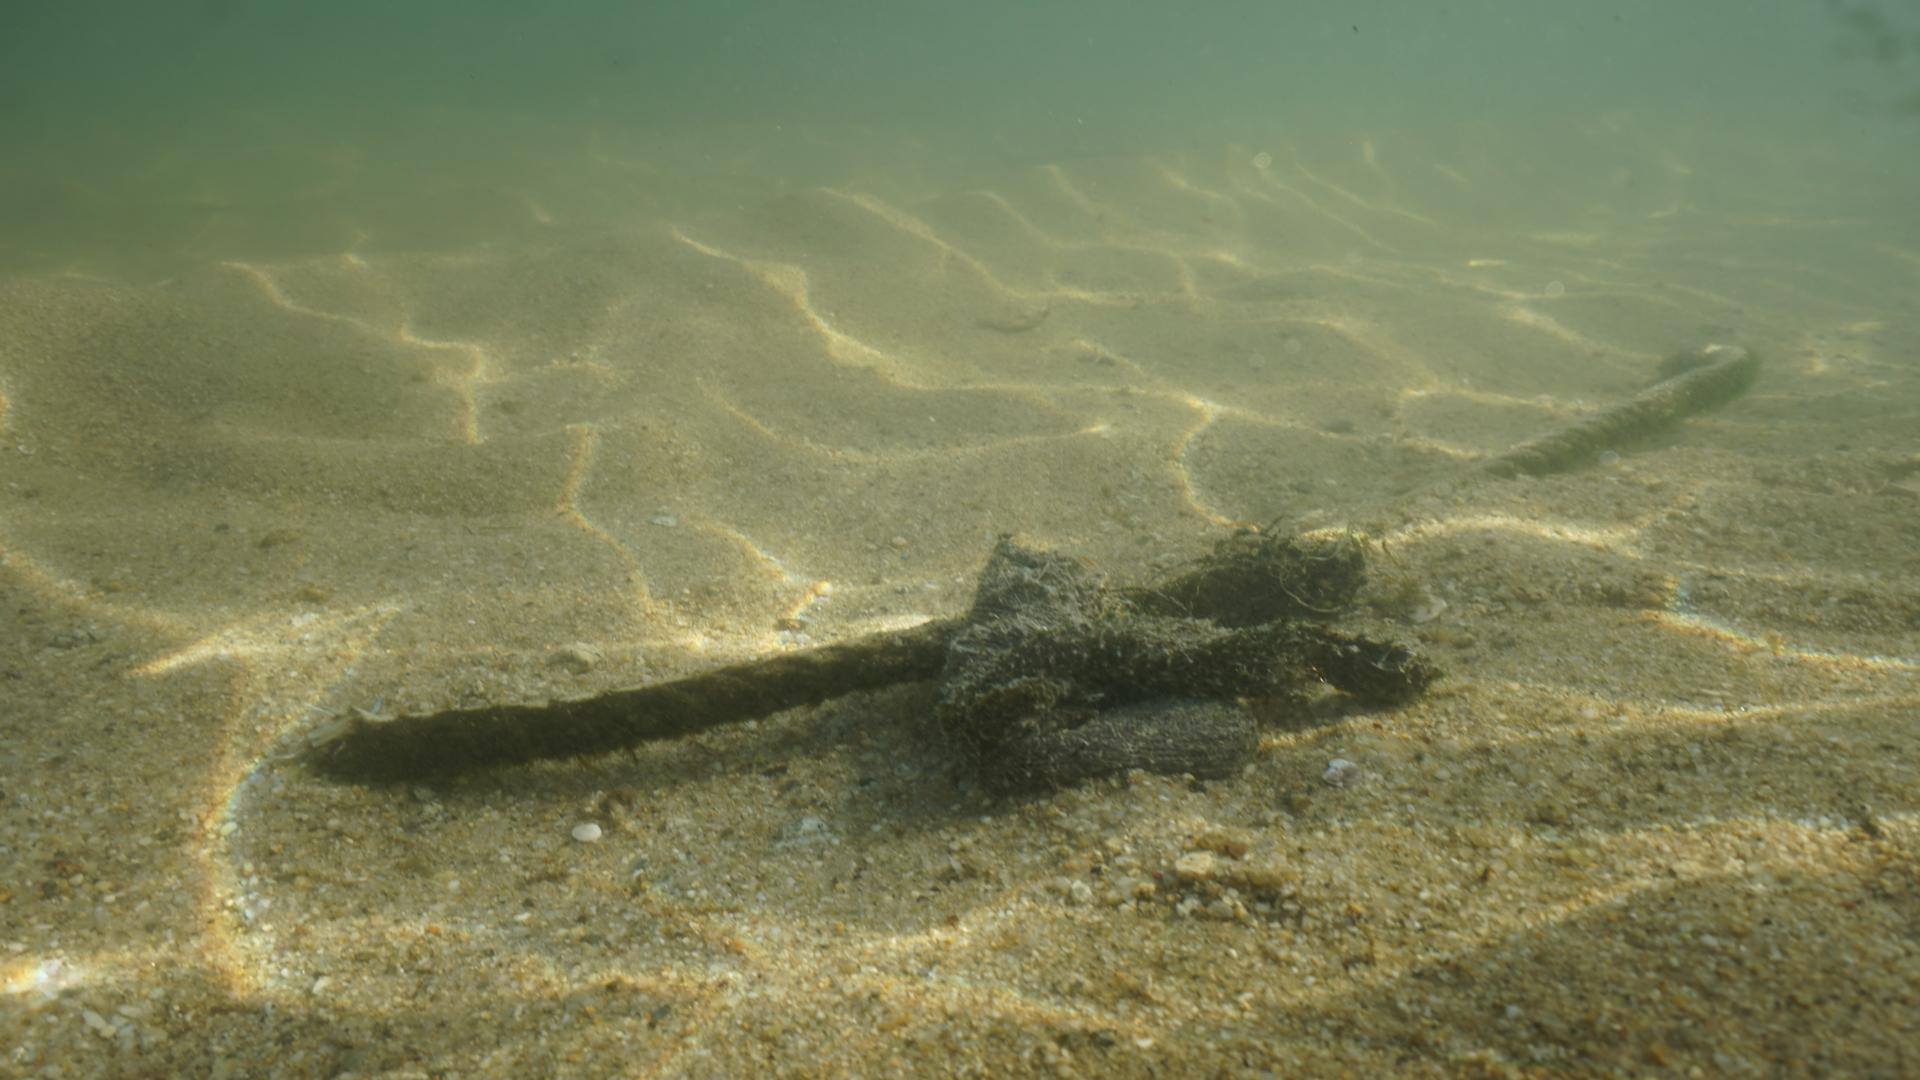rope: (315, 526, 1333, 789), (1466, 338, 1750, 483)
